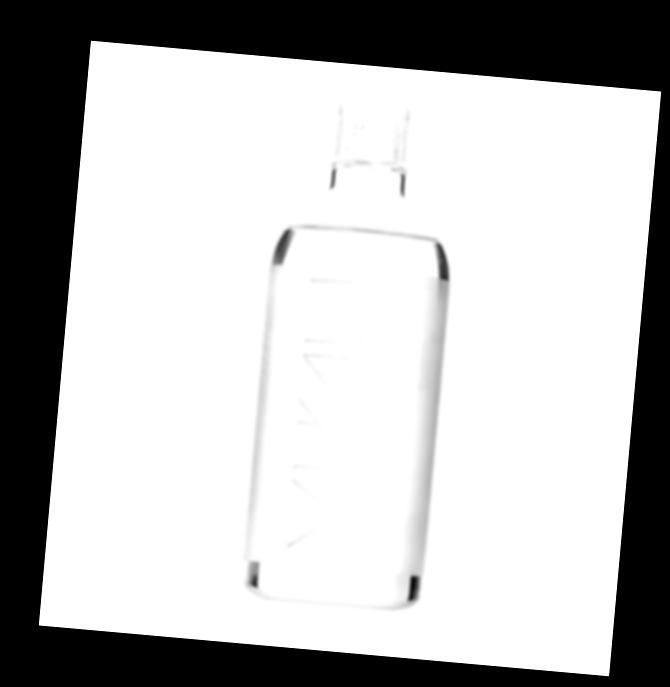cosmetic: (238, 91, 463, 609)
